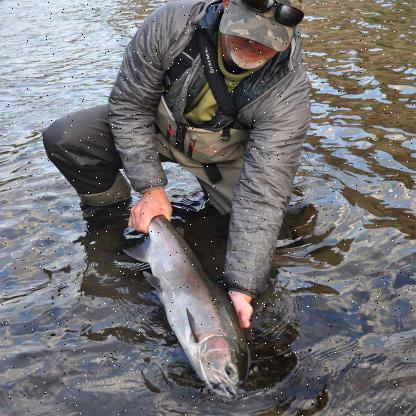fish: (117, 202, 250, 402)
